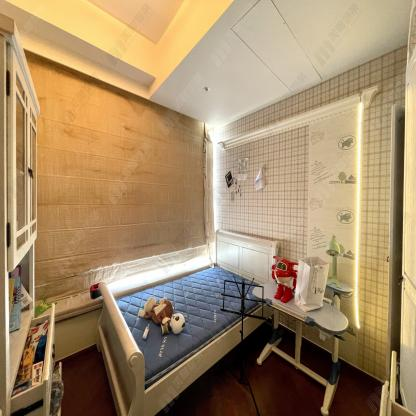Bed: (97, 228, 283, 416)
